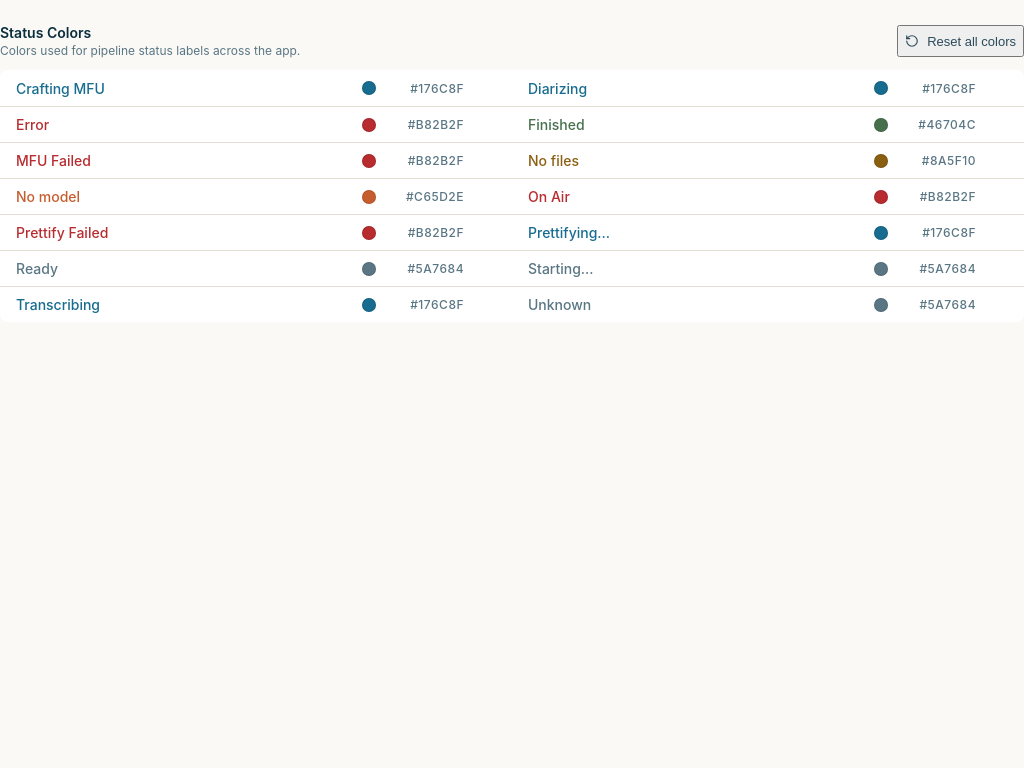
StatusColorsSection — picker popover › rejects a malformed hex value without changing the active or persisted mapping
Step 1. Click the button "Error #B82B2F" → (33, 124), box [16, 116, 464, 133]
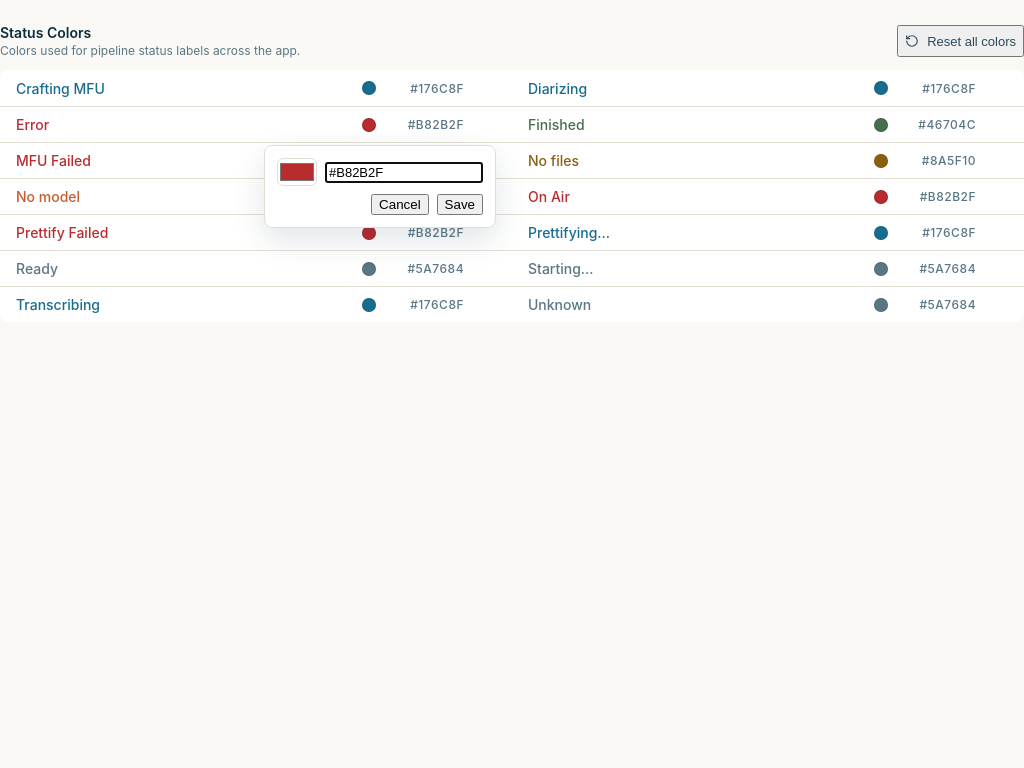
Step 2. Replace the text in the field named "Hex color" with "#123" → (404, 172), box [325, 162, 483, 182]
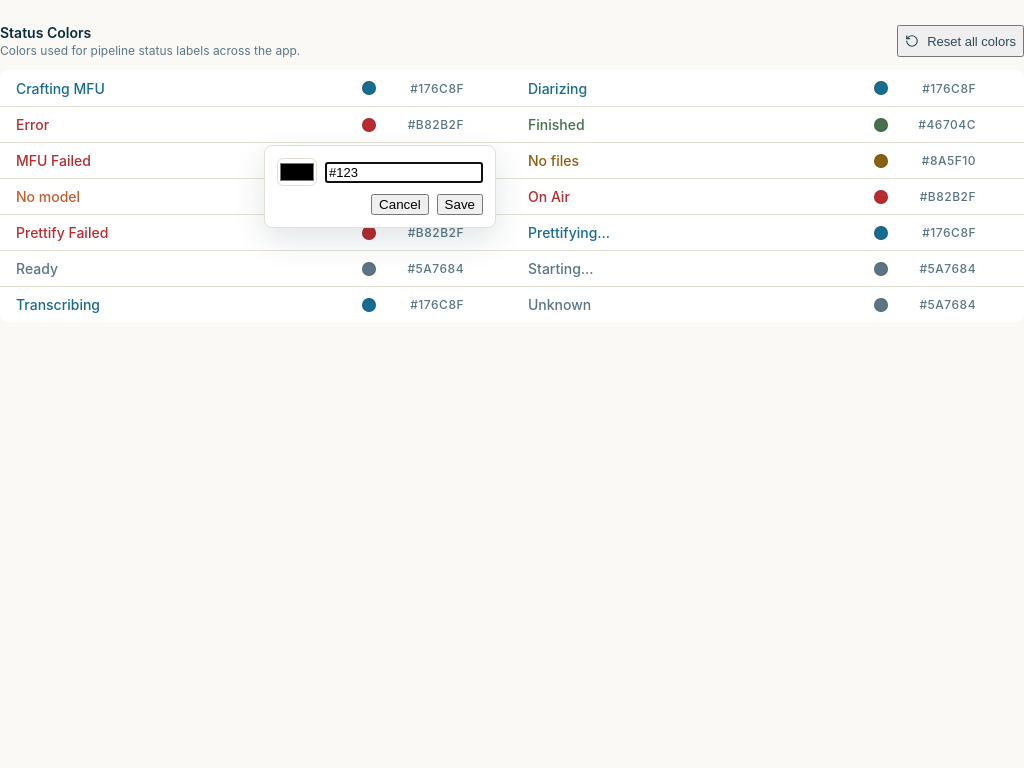
Step 3. Click the button "Save" → (460, 204), box [437, 194, 483, 215]
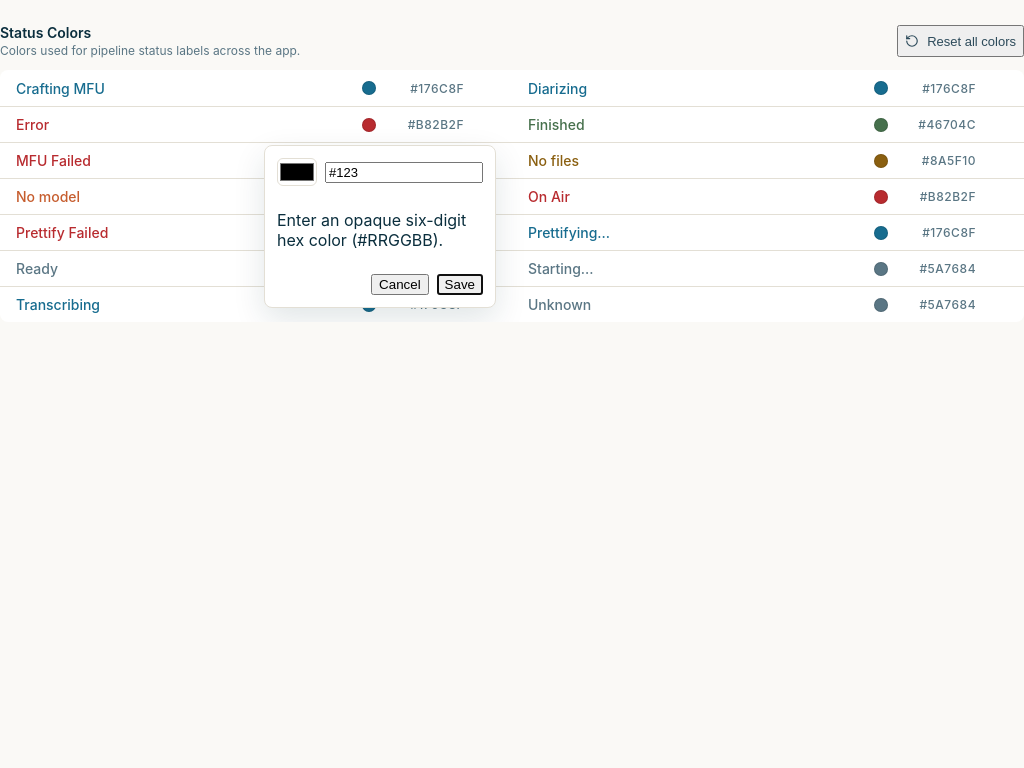
Result: the dialog is shown at [264, 145, 496, 308]
Result: the message "Enter an opaque six-digit hex color (#RRGGBB)." is shown at [277, 210, 483, 250]
